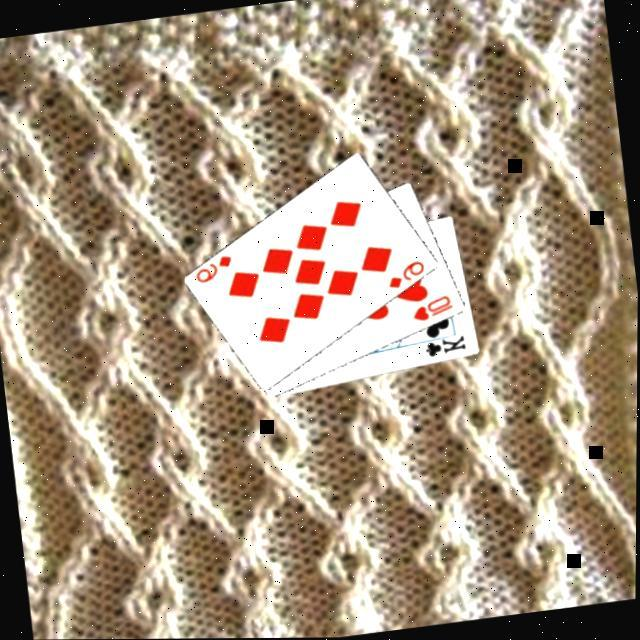10H: (406, 292, 456, 326)
9D: (381, 257, 428, 294), (189, 253, 236, 288)
KC: (415, 330, 468, 362)
